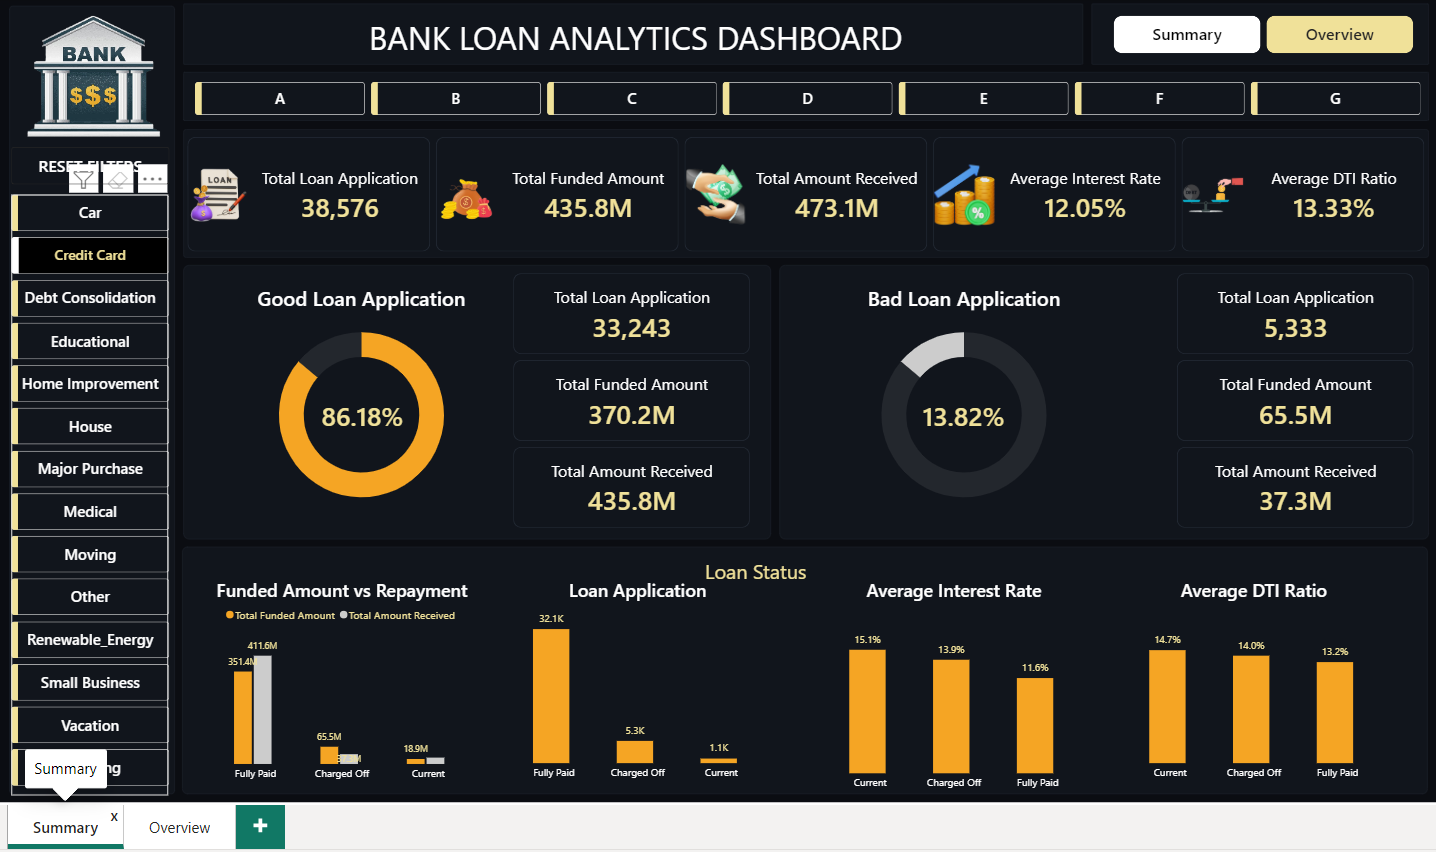

What the dashboard file says about the page in this screenshot:
{"tool":"powerbi","page":{"name":"Summary","canvas":[1920,1080],"ordinal":0},"visuals":[{"type":"cardVisual","fields":{"Data":["financial_loan.Total Loan Application","financial_loan.Total Funded Amount","financial_loan.Total Amount Received","financial_loan.Average Interest Rate","financial_loan.Average DTI Rate"]},"box":[250,187.8,1653.3,153.3],"z":0},{"type":"donutChart","title":"Good Loan Application","fields":{"Category":["financial_loan.Good_vs_Bad_Loan"],"Y":["financial_loan.Total Loan Application"]},"box":[272.9,368.6,421.4,342.9],"z":1000},{"type":"donutChart","title":"Bad Loan Application","fields":{"Category":["financial_loan.Good_vs_Bad_Loan"],"Y":["financial_loan.Total Loan Application"]},"box":[1077.1,368.6,421.4,342.9],"z":2000},{"type":"cardVisual","fields":{"Data":["financial_loan.Good Loan %"]},"box":[394.3,514.3,180,88.6],"z":3000},{"type":"cardVisual","fields":{"Data":["financial_loan.Bad Loan %"]},"box":[1197.1,514.3,180,88.6],"z":4000},{"type":"cardVisual","fields":{"Data":["financial_loan.Total Loan Application","financial_loan.Total Funded Amount","financial_loan.Total Amount Received"],"Rows":["financial_loan.Good_vs_Bad_Loan"]},"box":[651.4,368.6,350,342.9],"z":5000},{"type":"cardVisual","fields":{"Data":["financial_loan.Total Loan Application","financial_loan.Total Funded Amount","financial_loan.Total Amount Received"],"Rows":["financial_loan.Good_vs_Bad_Loan"]},"box":[1538.6,368.6,350,342.9],"z":6000},{"type":"clusteredColumnChart","title":"Funded Amount vs Repayment","fields":{"Category":["financial_loan.LOAN_STATUS"],"Y":["financial_loan.Total Funded Amount","financial_loan.Total Amount Received"]},"box":[250,761.4,412.9,305.7],"z":7000},{"type":"clusteredColumnChart","title":"Loan Application","fields":{"Category":["financial_loan.LOAN_STATUS"],"Y":["financial_loan.Total Loan Application"]},"box":[651.2,761.2,401.2,305],"z":8000},{"type":"textbox","box":[941.2,747.5,222.5,112.5],"z":9000},{"type":"clusteredColumnChart","title":"Average Interest Rate","fields":{"Category":["financial_loan.LOAN_STATUS"],"Y":["financial_loan.Average Interest Rate"]},"box":[1072.9,761.4,401.4,318.6],"z":10000},{"type":"clusteredColumnChart","title":"Average DTI Ratio","fields":{"Category":["financial_loan.LOAN_STATUS"],"Y":["financial_loan.Average DTI Ratio"]},"box":[1473.8,761.2,401.2,305],"z":11000},{"type":"image","box":[0,0,250,210],"z":12000},{"type":"advancedSlicerVisual","fields":{"Values":["financial_loan.PURPOSE"]},"box":[14.3,264.3,211.4,802.9],"z":13000},{"type":"advancedSlicerVisual","fields":{"Values":["financial_loan.GRADE"]},"box":[260,113,1643,44],"z":14000},{"type":"actionButton","box":[14.3,200,211.4,50],"z":15000},{"type":"textbox","box":[250,24.3,1197.1,68.6],"z":16000},{"type":"pageNavigator","box":[1488.6,24.3,400,50],"z":17000}]}

Visuals, with their boxes on the page's 1920x1080 design canvas (x1, y1, x2, y2). These are canvas units, not pixel positions in the 1436x852 screenshot, which may show the page scaled, cropped or inside an application window:
cardVisual - financial_loan.Total Loan Application x financial_loan.Total Funded Amount: bbox=[250, 188, 1903, 341]
"Good Loan Application" donutChart: bbox=[273, 369, 694, 712]
"Bad Loan Application" donutChart: bbox=[1077, 369, 1498, 712]
cardVisual - financial_loan.Good Loan %: bbox=[394, 514, 574, 603]
cardVisual - financial_loan.Bad Loan %: bbox=[1197, 514, 1377, 603]
cardVisual - financial_loan.Total Loan Application x financial_loan.Total Funded Amount: bbox=[651, 369, 1001, 712]
cardVisual - financial_loan.Total Loan Application x financial_loan.Total Funded Amount: bbox=[1539, 369, 1889, 712]
"Funded Amount vs Repayment" clusteredColumnChart: bbox=[250, 761, 663, 1067]
"Loan Application" clusteredColumnChart: bbox=[651, 761, 1052, 1066]
textbox: bbox=[941, 748, 1164, 860]
"Average Interest Rate" clusteredColumnChart: bbox=[1073, 761, 1474, 1080]
"Average DTI Ratio" clusteredColumnChart: bbox=[1474, 761, 1875, 1066]
image: bbox=[0, 0, 250, 210]
advancedSlicerVisual - financial_loan.PURPOSE: bbox=[14, 264, 226, 1067]
advancedSlicerVisual - financial_loan.GRADE: bbox=[260, 113, 1903, 157]
actionButton: bbox=[14, 200, 226, 250]
textbox: bbox=[250, 24, 1447, 93]
pageNavigator: bbox=[1489, 24, 1889, 74]
